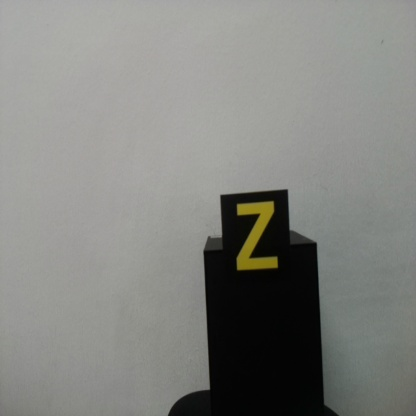id_15: (221, 196, 290, 283)
